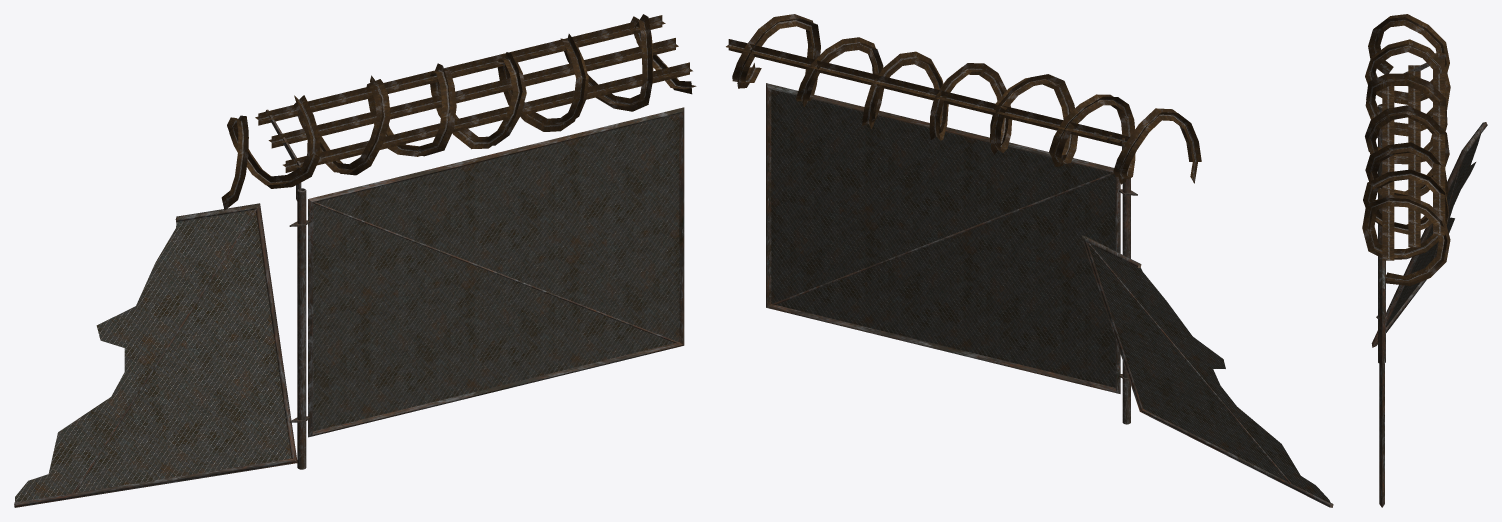
File: Fence_metal_06.FBX
3 views of the same model, side by side, from view 1: azimuth 30°, elevation 25°; view 2: azimuth 150°, elevation 25°; view 3: azimuth 270°, elevation 25° (orthographic). The views are drawn at different scales.
Parts seen in each view (by area): view 1: Fence_metal_grid_06, Fence_metal_wire_06, Fence_metal_06; view 2: Fence_metal_grid_06, Fence_metal_wire_06, Fence_metal_06; view 3: Fence_metal_wire_06, Fence_metal_06, Fence_metal_grid_06.
Part boxes in pixels (<box>): Fence_metal_grid_06: <box>15,114,679,502</box>; Fence_metal_wire_06: <box>221,14,696,210</box>; Fence_metal_06: <box>14,107,684,507</box>; Fence_metal_grid_06: <box>771,89,1330,503</box>; Fence_metal_wire_06: <box>726,14,1201,184</box>; Fence_metal_06: <box>766,83,1333,507</box>; Fence_metal_wire_06: <box>1362,14,1450,285</box>; Fence_metal_06: <box>1371,54,1487,507</box>; Fence_metal_grid_06: <box>1386,134,1480,327</box>.
Bounding box in the file's own units: 563 × 297 × 102.
